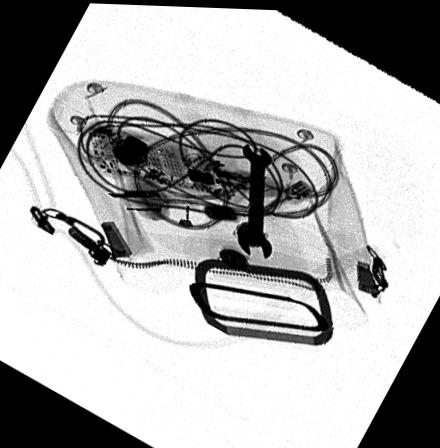Wrench: (236, 140, 274, 259)
